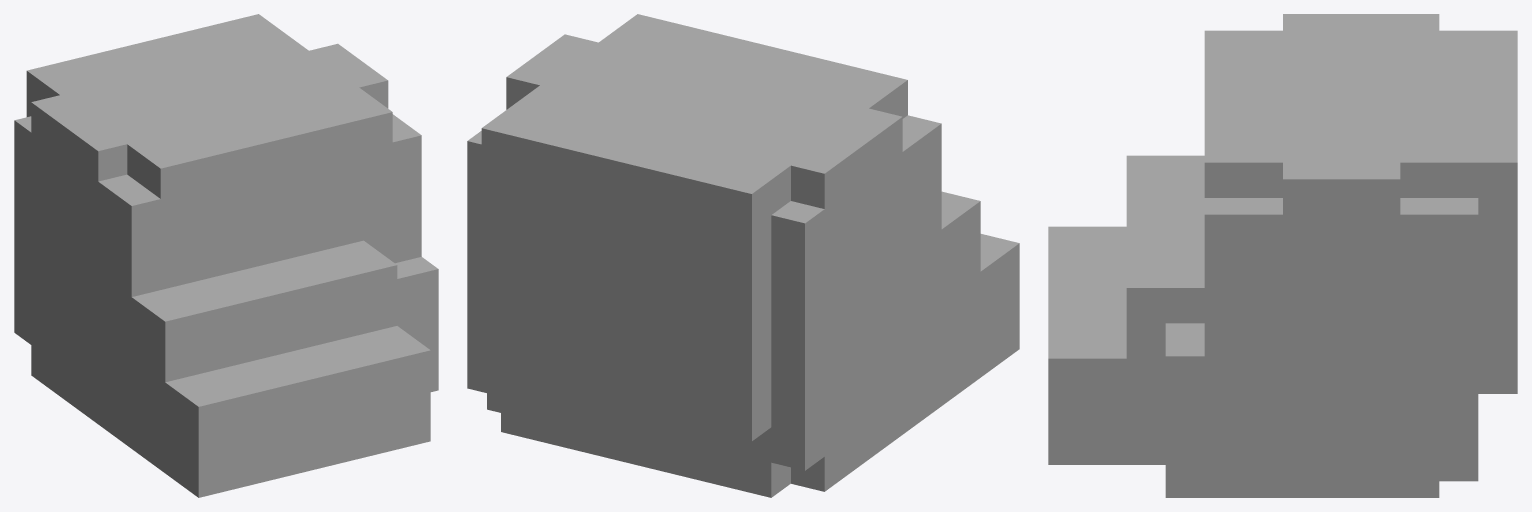
Rendered from gorilla-5-L_Hand.obj.
The picture shows the model from 3 angles, left to right: view 1: azimuth 30°, elevation 25°; view 2: azimuth 150°, elevation 25°; view 3: azimuth 270°, elevation 25°; orthographic projection. The views are drawn at different scales.
Visible parts, largest first — view 1: L_Hand; view 2: L_Hand; view 3: L_Hand.
Boxes of the visible parts, x1=… form: L_Hand: x1=14, y1=14, x2=438, y2=497; L_Hand: x1=467, y1=14, x2=1019, y2=497; L_Hand: x1=1048, y1=14, x2=1517, y2=497.
Size of the model in its own units: 1 by 0.9 by 1.2.
1 material, 1 textured.
